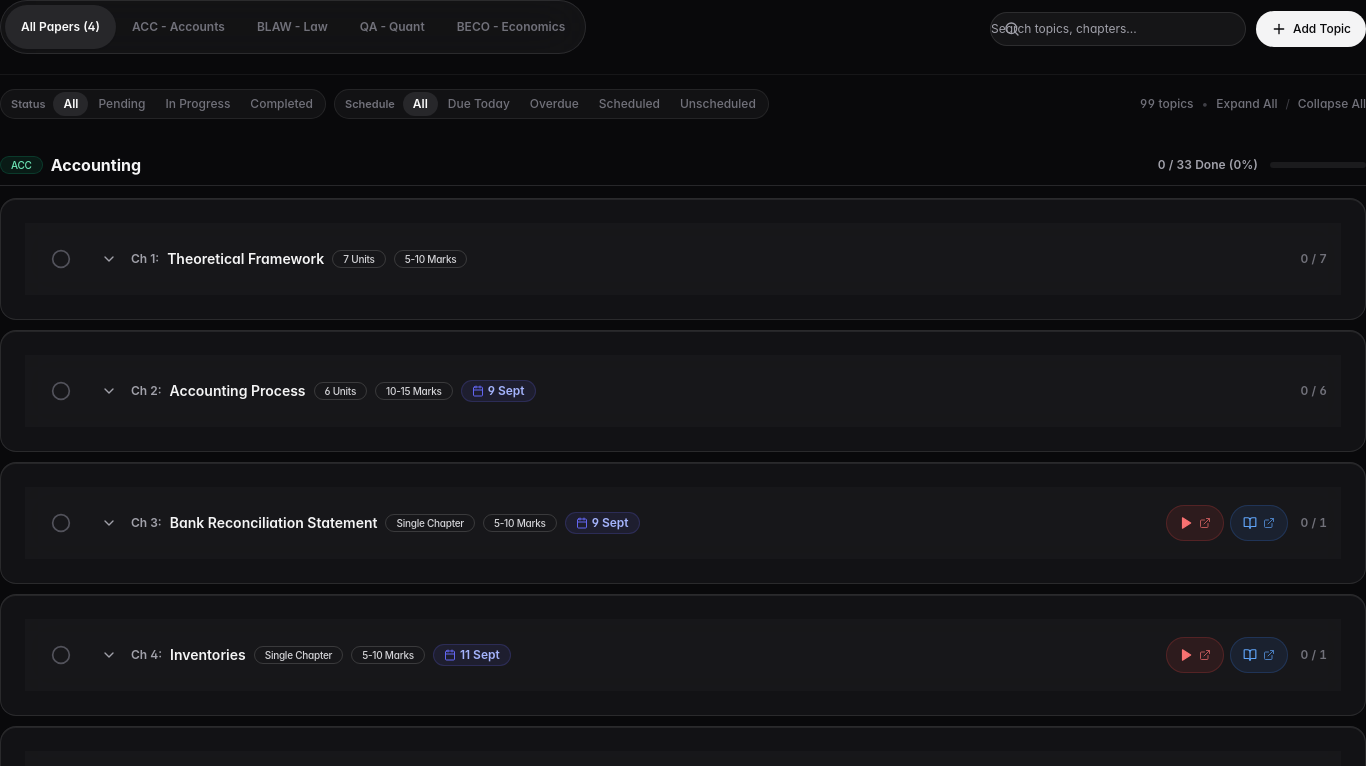
it: Tier 2 - Boundary 9: Special Regex Search & Contradictory Filter Combos › handles combination of Overdue Filter on fresh pending topics without target dates
The width and height of the screenshot is (1366, 766).
Click the button "Overdue": (554, 104) [520,92,589,116]
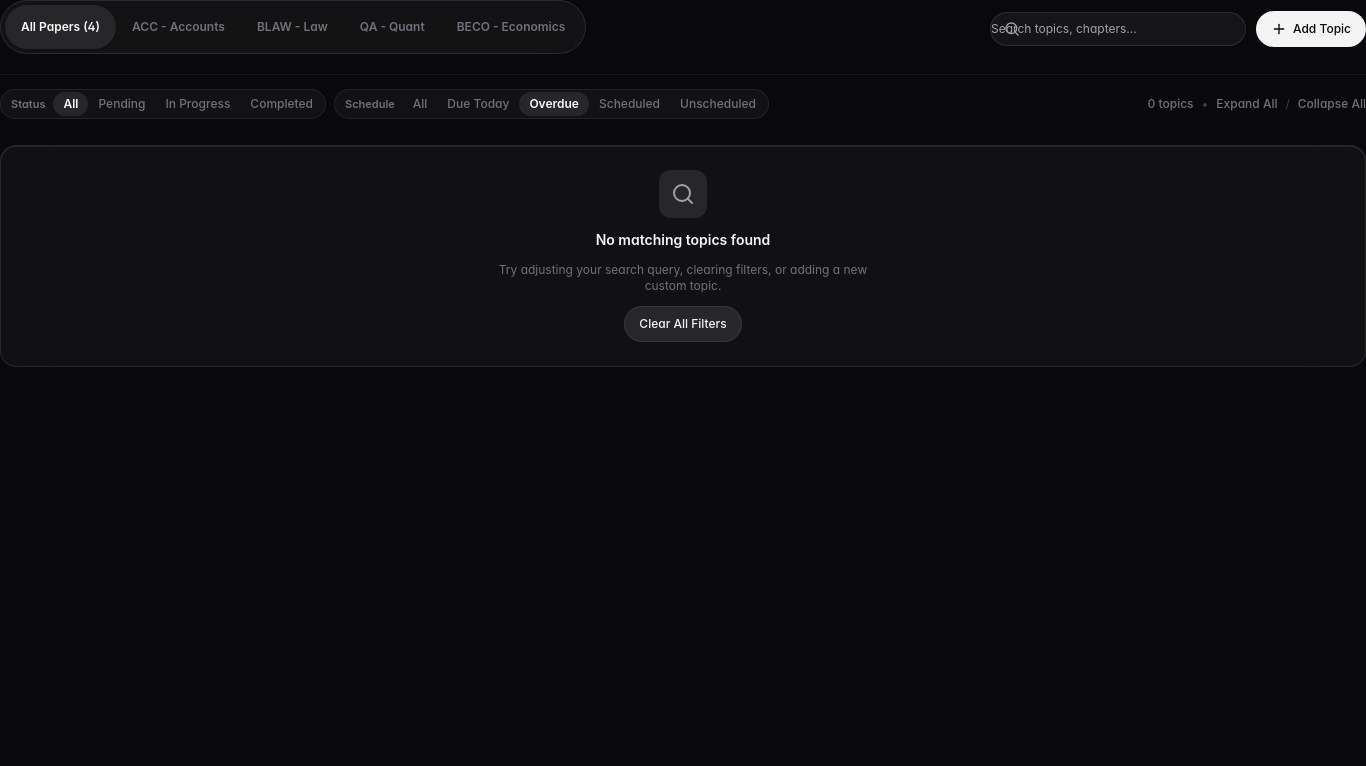
Now the heading "No matching topics found" is shown, box [596,231,770,248]
